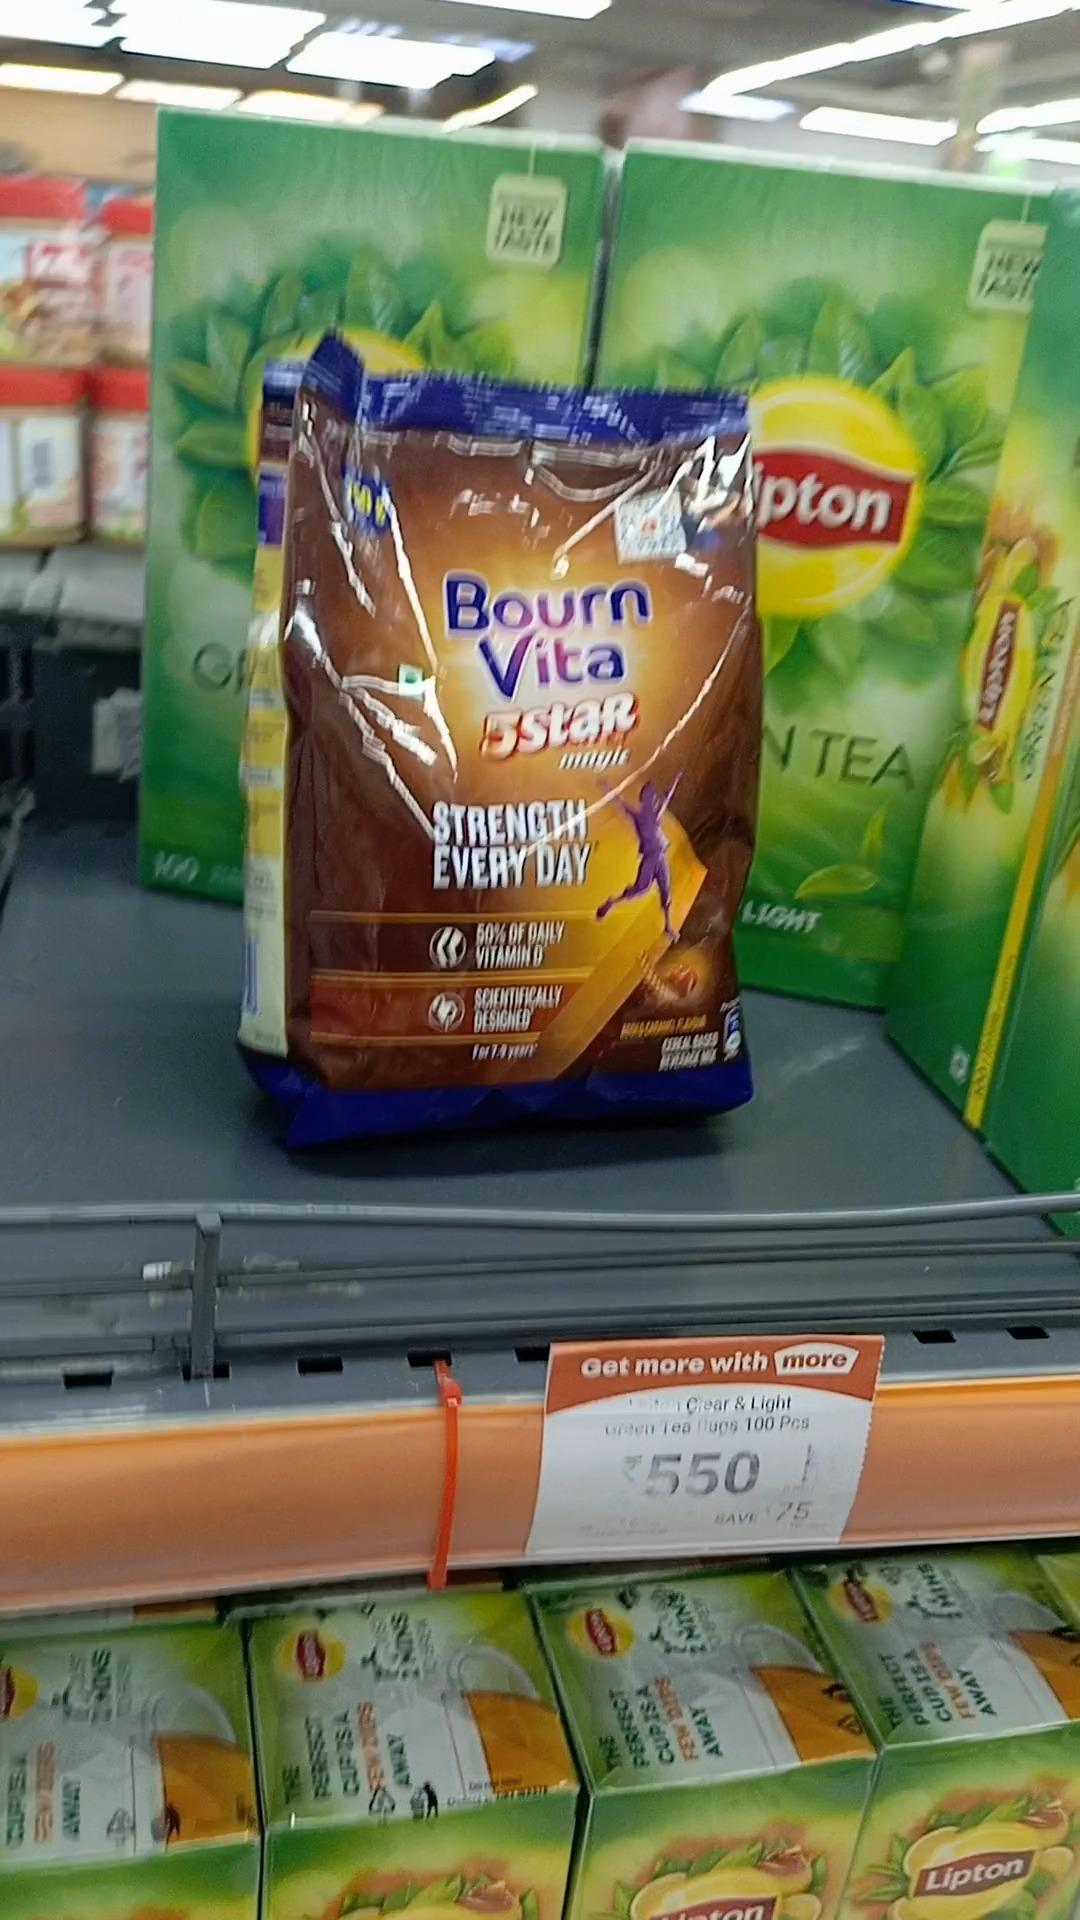BOURN_VITA_FIVE_STAR_MAGIC_750_G_POUCH: (277, 365, 760, 1129)
